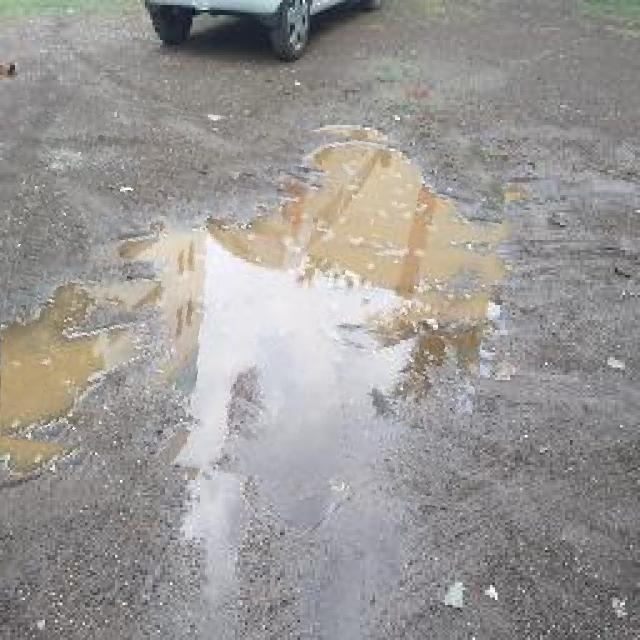puddle: (1, 105, 501, 492)
